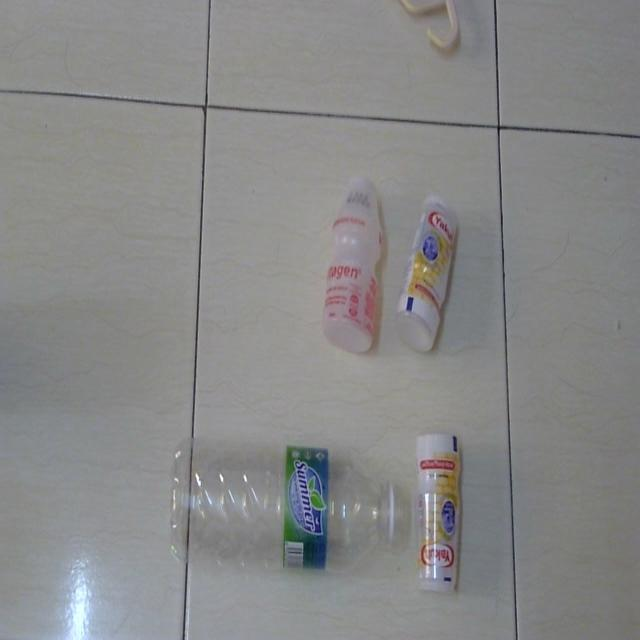plastic_laydown_0rotation: (168, 425, 405, 585)
plastic_laydown_90rotation: (397, 188, 459, 358), (411, 427, 468, 604), (327, 170, 380, 353)
